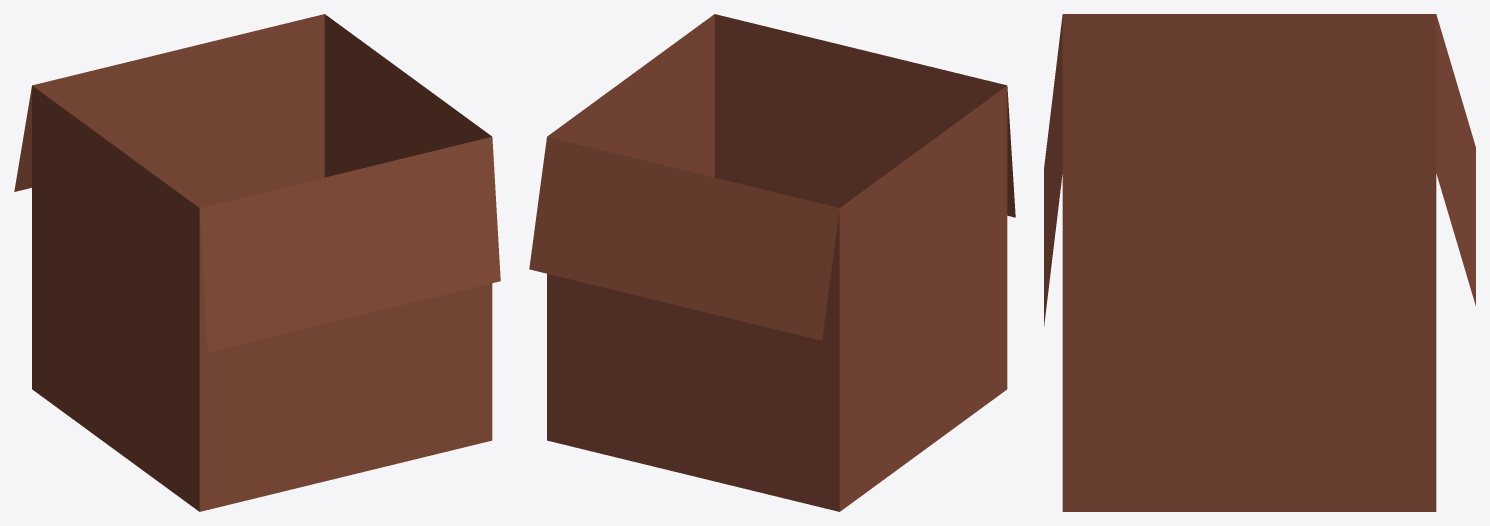
File: bookcart.dae
The picture shows the model from 3 angles, left to right: view 1: azimuth 30°, elevation 25°; view 2: azimuth 150°, elevation 25°; view 3: azimuth 270°, elevation 25°; orthographic projection. The views are drawn at different scales.
Parts seen in each view (by area): view 1: SketchUp; view 2: SketchUp; view 3: SketchUp.
Part boxes in pixels (x1,y1,x2,y2): SketchUp: (14,14,500,511); SketchUp: (529,14,1015,511); SketchUp: (1044,14,1475,511).
Size of the model in its own units: 60.5 by 69.34 by 60.
